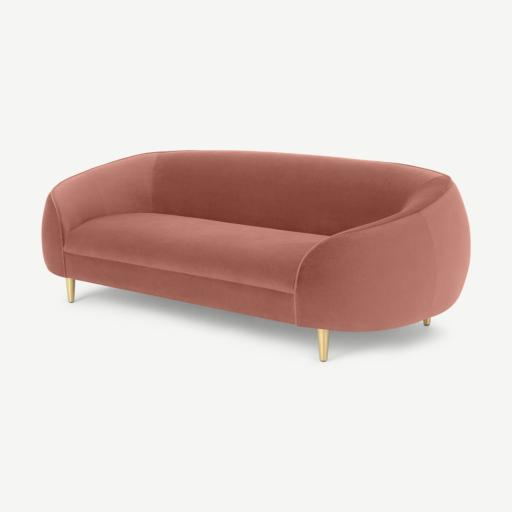back_cushion: (152, 151, 447, 235)
left_arm: (295, 184, 468, 331)
legs: (318, 329, 329, 361), (66, 278, 75, 303), (424, 318, 430, 325)
one-seater: (42, 151, 470, 361)
right_arm: (46, 153, 156, 276)
seat_cushion: (65, 213, 327, 293)
